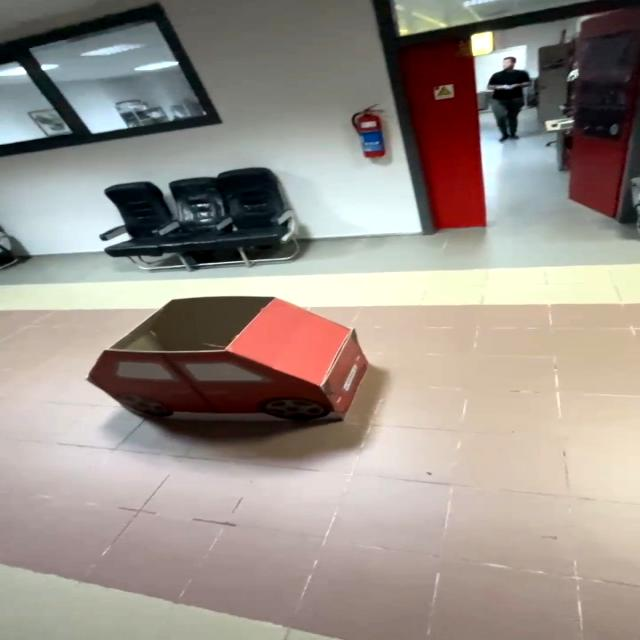red_car: (57, 283, 388, 480)
